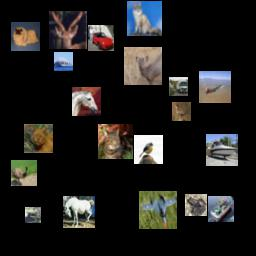airplane: (139, 191, 177, 229), (199, 71, 231, 103)
automobile: (88, 25, 114, 51)
bird: (134, 135, 163, 164), (11, 160, 37, 186), (172, 102, 191, 121)
cat: (127, 1, 162, 36), (98, 124, 133, 159), (24, 124, 53, 153)
deer: (124, 47, 162, 85), (49, 11, 87, 49), (25, 207, 41, 223)
dog: (11, 22, 40, 51)
frog: (185, 194, 207, 216)
ship: (206, 134, 238, 166), (208, 196, 234, 222), (54, 52, 73, 71)
truck: (169, 77, 188, 96)
